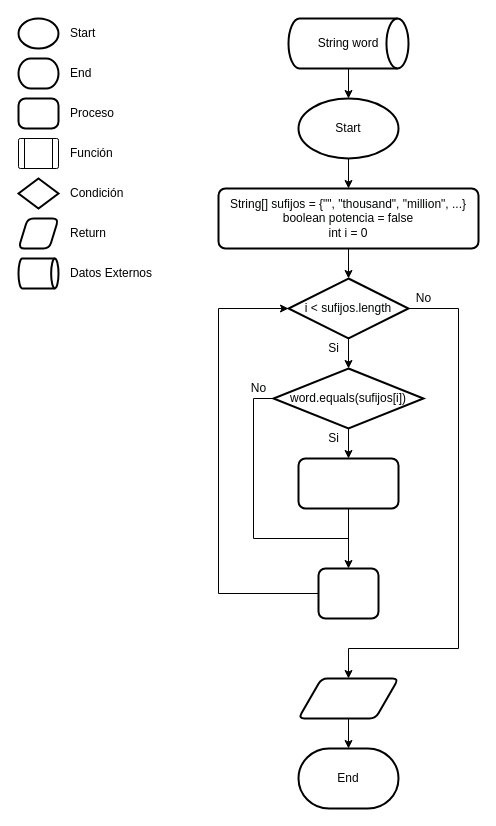
This 496x826 diagram has some shape labels left out. The shapes that lost their labels are listed below. From the top down, each one's centre as x and y in pixels, then its label:
(x=348, y=483): potencia = true
(x=348, y=593): i++
(x=348, y=698): potencia
